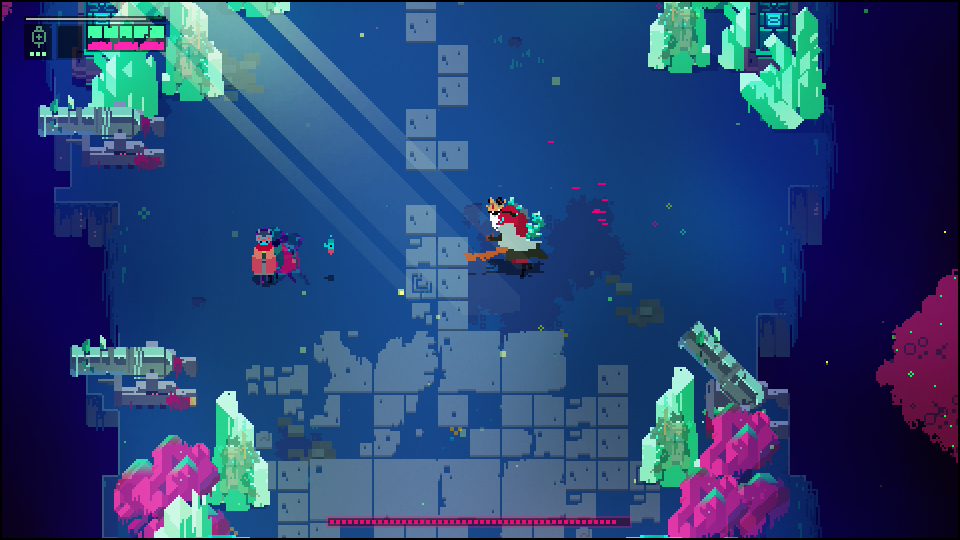hanged_man: (473, 195, 552, 276)
player: (249, 228, 279, 287)
